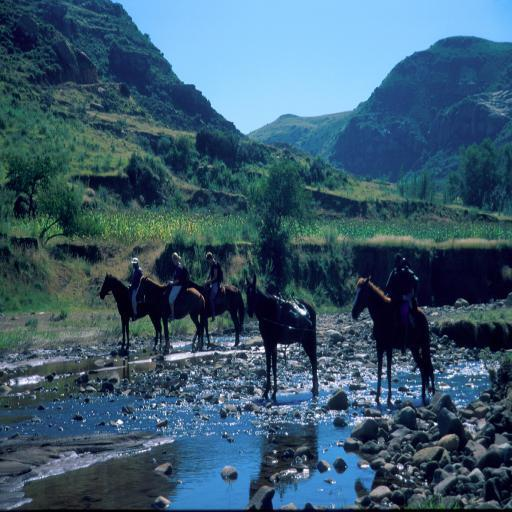horse: (352, 276, 438, 402), (245, 274, 318, 398), (134, 274, 211, 353), (100, 271, 164, 353), (186, 282, 244, 346)
